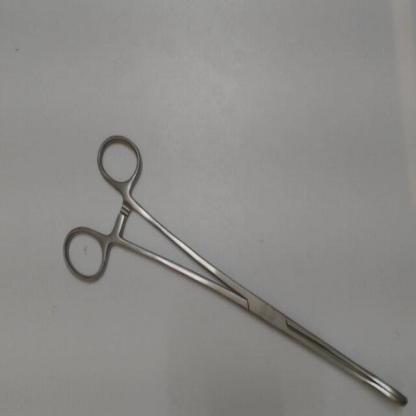Sponge Forceps: (55, 126, 415, 413)
